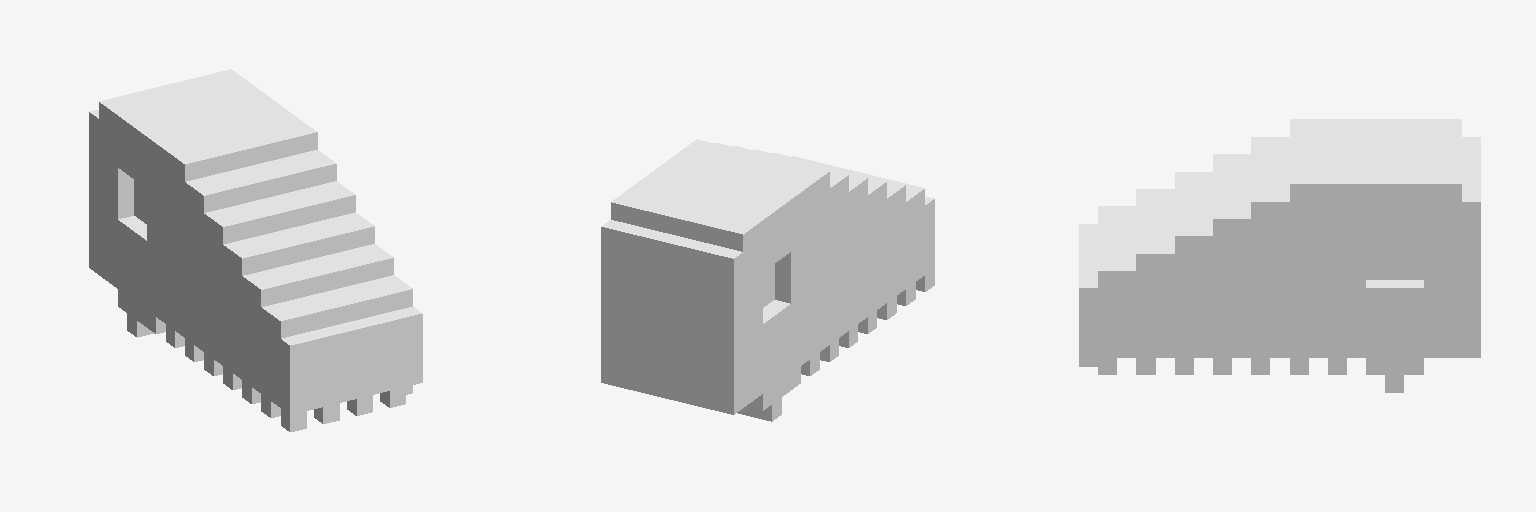
The model's file is JawTop.obj.
3 renders of one model, left to right at view 1: azimuth 30°, elevation 25°; view 2: azimuth 150°, elevation 25°; view 3: azimuth 270°, elevation 25°, orthographic.
Size of the model in its own units: 8 by 12 by 21.